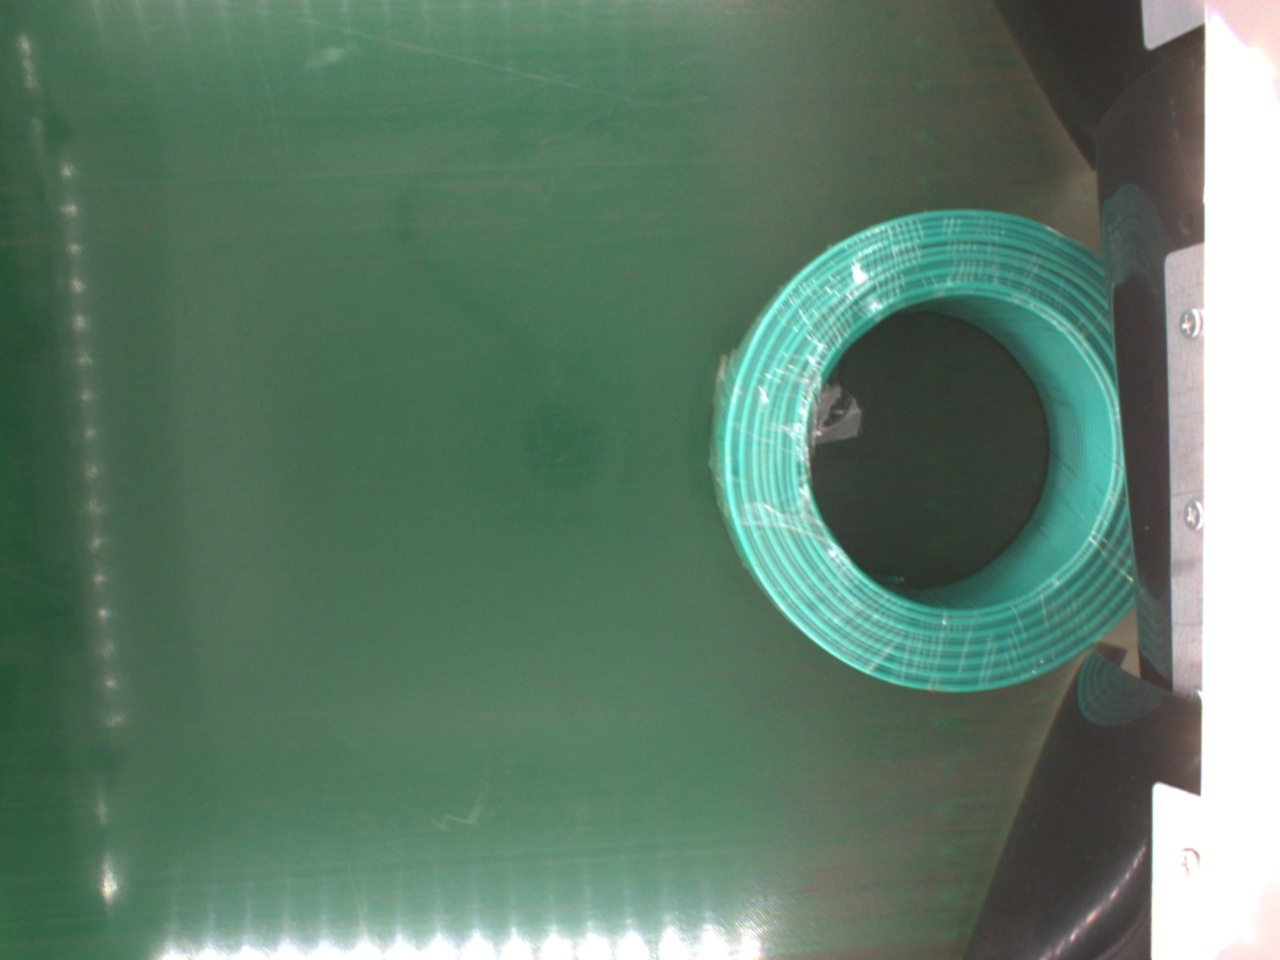green: (710, 210, 1138, 691)
